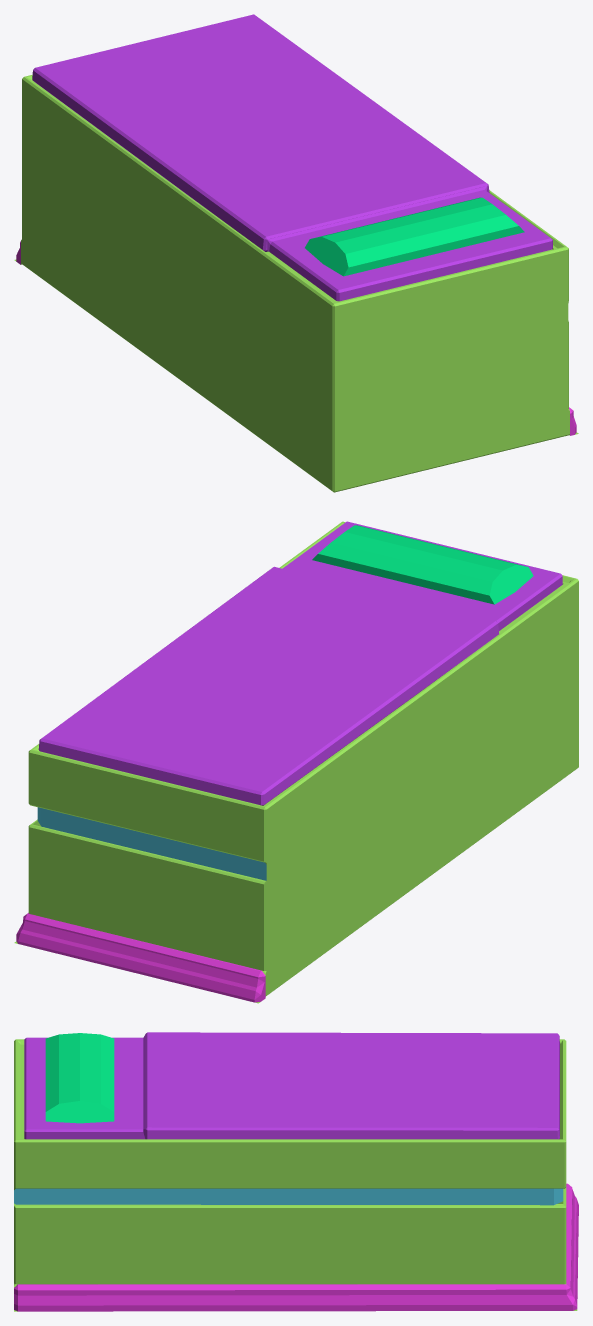
The model's file is bed.fbx.
The picture shows the model from 3 angles, top to bottom: view 1: azimuth 30°, elevation 25°; view 2: azimuth 150°, elevation 25°; view 3: azimuth 270°, elevation 25°; orthographic projection. The views are drawn at different scales.
Parts seen in each view (by area): view 1: Cube, Cube.001, Cube.004; view 2: Cube, Cube.001, Cube.004, Cube.003, Cube.002; view 3: Cube, Cube.001, Cube.003, Cube.002, Cube.004.
Part boxes in pixels (left/top/right/bottom): Cube: left=14, top=75, right=578, bottom=492; Cube.001: left=32, top=14, right=552, bottom=301; Cube.004: left=305, top=197, right=524, bottom=276; Cube: left=14, top=521, right=578, bottom=1003; Cube.001: left=38, top=521, right=562, bottom=805; Cube.004: left=312, top=525, right=533, bottom=604; Cube.003: left=16, top=913, right=265, bottom=1002; Cube.002: left=37, top=807, right=266, bottom=880; Cube: left=14, top=1039, right=577, bottom=1311; Cube.001: left=24, top=1032, right=559, bottom=1139; Cube.003: left=14, top=1183, right=578, bottom=1311; Cube.002: left=14, top=1188, right=563, bottom=1205; Cube.004: left=45, top=1033, right=114, bottom=1123.
Bounding box in the file's own units: 273 × 227 × 614.
